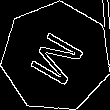M_SE: (23, 24, 89, 90)
